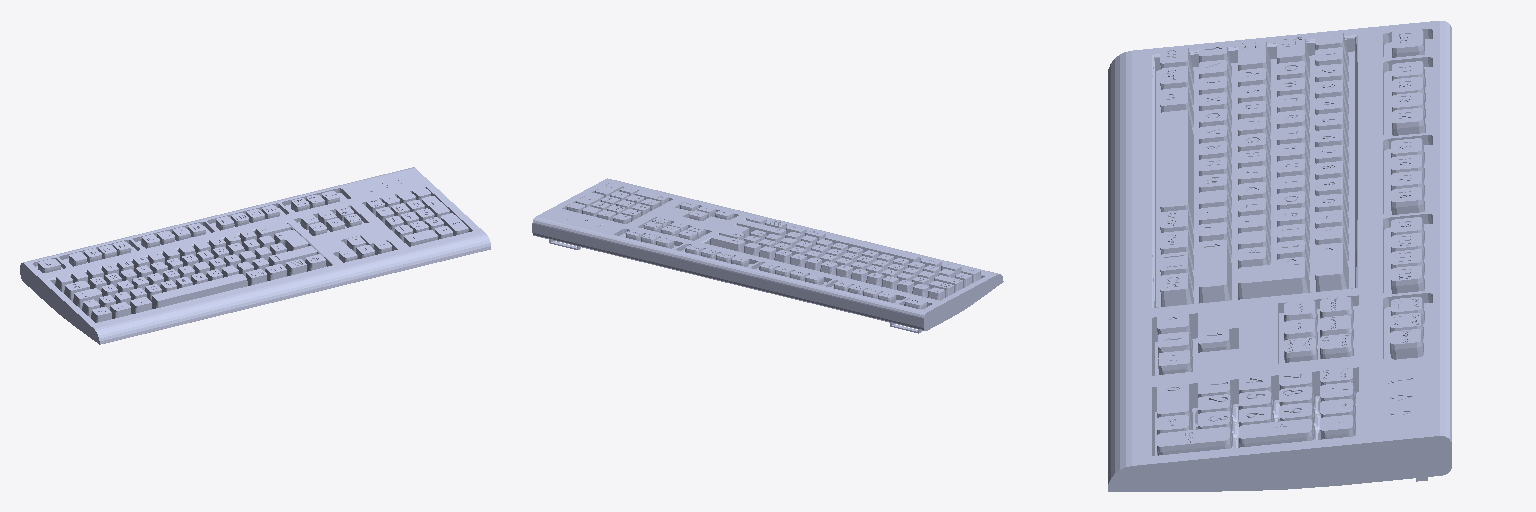
The robot description file, URDF, robot "computer_keyboard":
<robot
  name="computer_keyboard">
  <link
    name="computer_keyboard">
    <inertial>
      <origin
        xyz="0.088171 -0.013125 -0.0087777"
        rpy="0 0 0" />
      <mass
        value="0.076888" />
      <inertia
        ixx="2.32882674141847E-05"
        ixy="1.37979991885576E-06"
        ixz="-1.3207215150878E-07"
        iyy="0.000203756172928769"
        iyz="-1.74218953923965E-06"
        izz="0.000225909845318217" />
    </inertial>
    <visual>
      <origin
        xyz="0 0 0"
        rpy="0 0 0" />
      <geometry>
        <mesh
          filename="package://computer_keyboard/meshes/computer_keyboard.dae" />
      </geometry>
      <material
        name="">
        <color
          rgba="0.79216 0.81961 0.93333 1" />
      </material>
    </visual>
    <collision>
      <origin
        xyz="0 0 0"
        rpy="0 0 0" />
      <geometry>
        <mesh
          filename="package://computer_keyboard/meshes/computer_keyboard.dae" />
      </geometry>
    </collision>
  </link>
</robot>

--- Facts derived from the render (not from the file) ---
Views: 3 orthographic renders of the robot side by side, from view 1: azimuth 30°, elevation 25°; view 2: azimuth 150°, elevation 25°; view 3: azimuth 270°, elevation 25°.
Model computer_keyboard with 1 links and 0 joints (none), rooted at computer_keyboard, posed every joint at zero.
Links seen in each view (by area): view 1: computer_keyboard; view 2: computer_keyboard; view 3: computer_keyboard.
Link boxes in pixels (left/top/right/bottom): computer_keyboard: left=20, top=167, right=490, bottom=344; computer_keyboard: left=532, top=178, right=1003, bottom=333; computer_keyboard: left=1108, top=21, right=1451, bottom=491.
Bounding box of the posed robot: 0.179 × 0.0628 × 0.0122 m (x, y, z).
Meshes: 1 distinct files referenced, 1 mesh visuals loaded (1 Collada DAE).